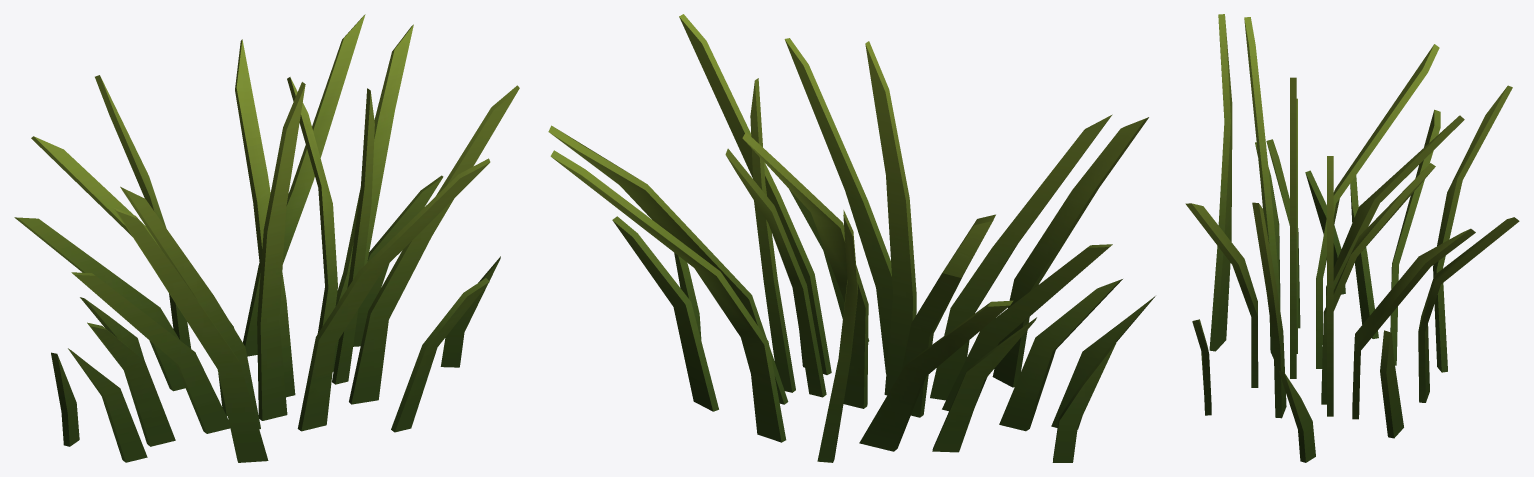
The model's file is grass_3.glb.
The picture shows the model from 3 angles, left to right: view 1: azimuth 30°, elevation 25°; view 2: azimuth 150°, elevation 25°; view 3: azimuth 270°, elevation 25°; orthographic projection. The views are drawn at different scales.
Visible parts, largest first — view 1: Grass_Large_Extruded; view 2: Grass_Large_Extruded; view 3: Grass_Large_Extruded.
Part boxes in pixels (bbox=[...]): Grass_Large_Extruded: bbox=[14, 14, 519, 462]; Grass_Large_Extruded: bbox=[548, 14, 1155, 462]; Grass_Large_Extruded: bbox=[1185, 14, 1519, 462].
Bounding box in the file's own units: 0.7447 × 0.5089 × 0.4973.
1 material, 1 textured.
